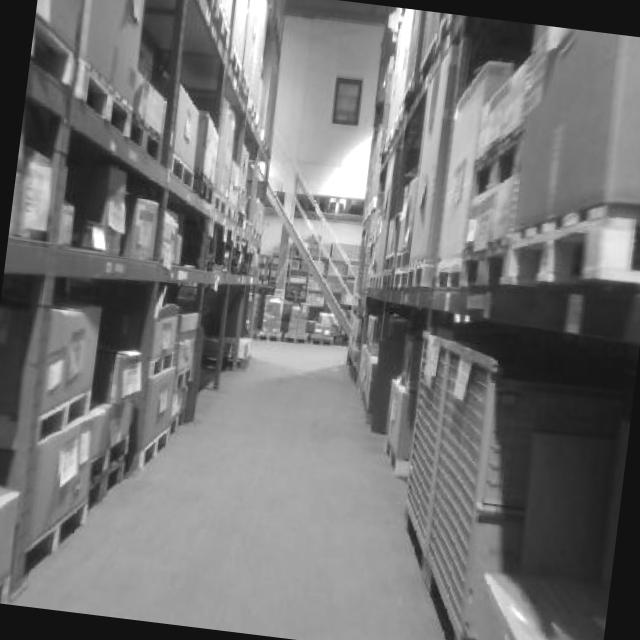pallet: (499, 186, 640, 309), (14, 484, 97, 590), (67, 60, 146, 145), (36, 362, 113, 442), (130, 419, 188, 475), (366, 427, 419, 488), (141, 337, 193, 377), (163, 160, 201, 193), (261, 324, 304, 350), (303, 330, 339, 350)
